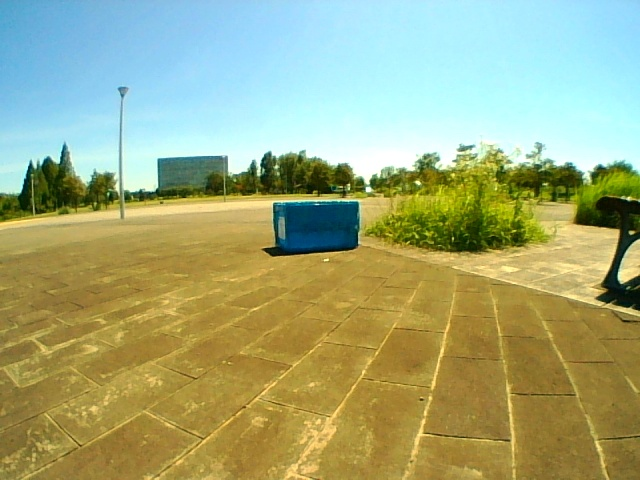blue_box: (274, 203, 358, 248)
tag: (277, 217, 285, 239)
